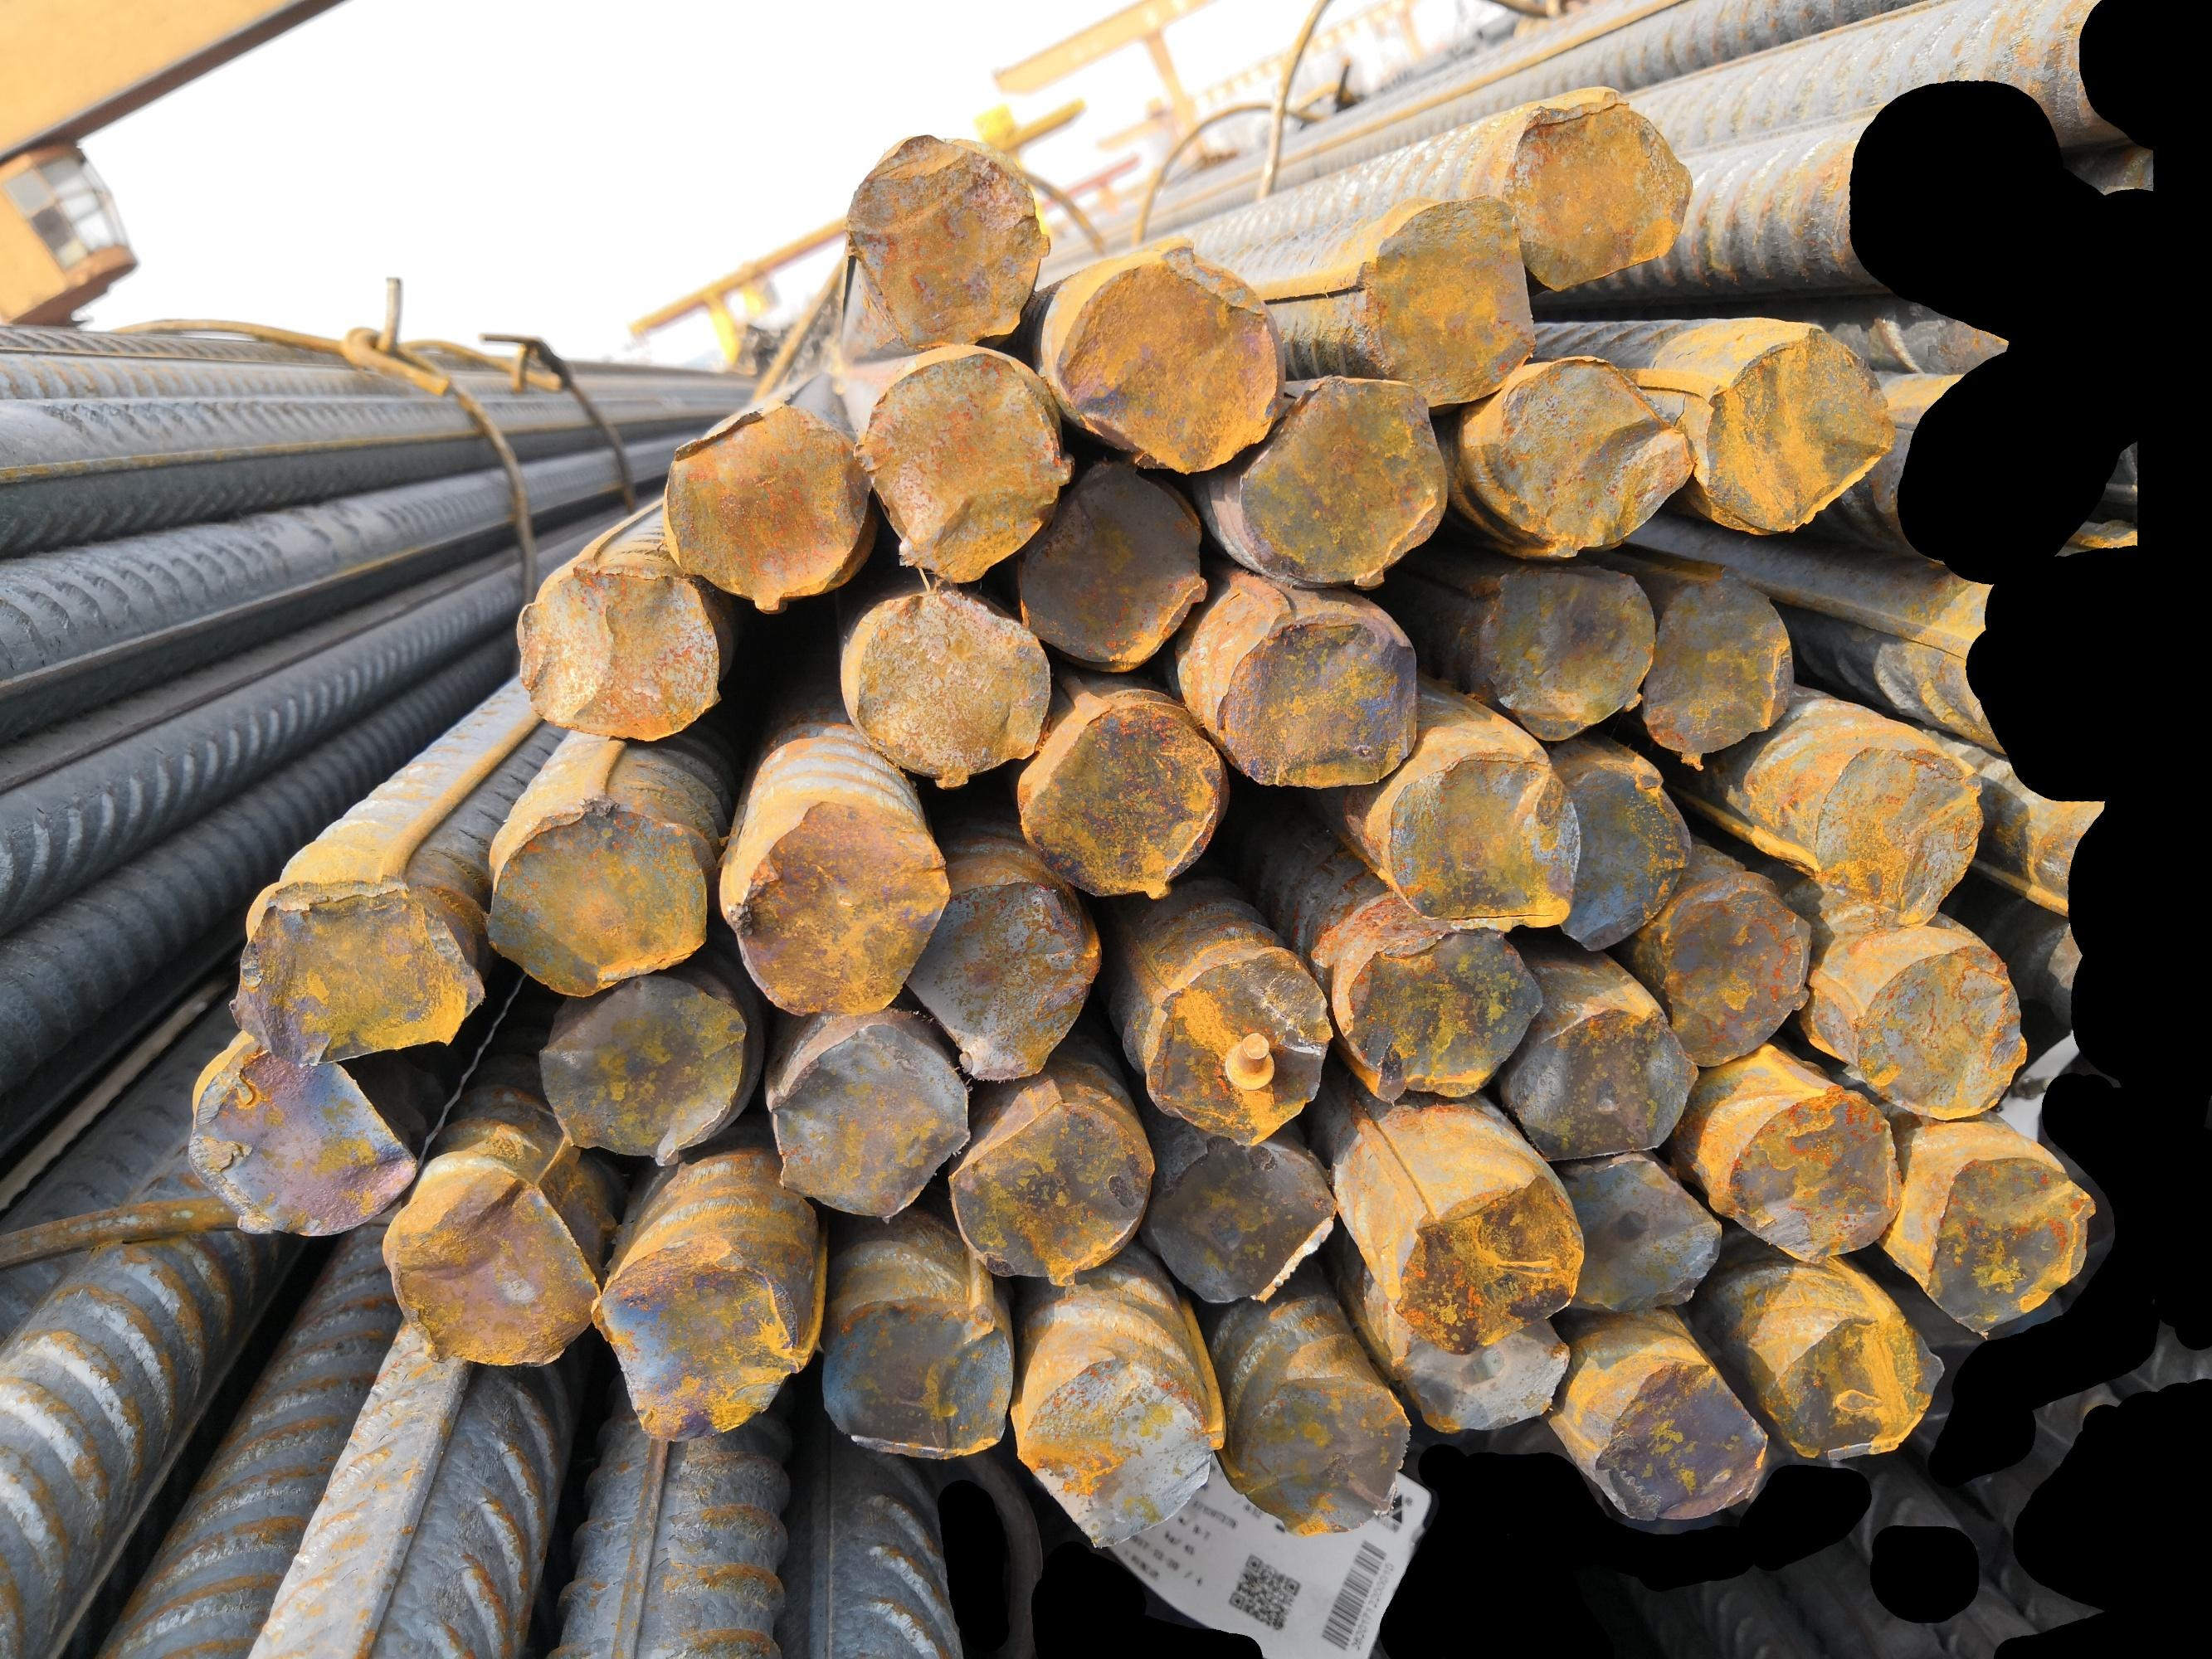bar: (1049, 237, 1285, 472), (716, 789, 952, 1023), (859, 345, 1077, 584), (225, 873, 485, 1063), (1229, 371, 1452, 589), (659, 397, 873, 617), (485, 793, 713, 999), (180, 1047, 422, 1241), (383, 1157, 603, 1368), (844, 132, 1055, 345), (837, 582, 1053, 788), (903, 868, 1107, 1086), (1487, 350, 1700, 558), (1011, 1345, 1227, 1549), (1700, 324, 1902, 538), (537, 969, 753, 1168), (767, 1016, 971, 1225), (1018, 701, 1229, 903), (1377, 1155, 1591, 1354), (586, 1256, 814, 1443), (511, 551, 729, 746), (945, 1089, 1159, 1284), (1503, 82, 1696, 293), (1351, 190, 1534, 408), (1211, 598, 1421, 788), (1018, 465, 1208, 674), (1140, 943, 1332, 1143), (1382, 741, 1581, 932), (1333, 929, 1548, 1105), (1717, 1073, 1907, 1267), (1572, 1351, 1773, 1525), (816, 1290, 1014, 1464), (1914, 1147, 2095, 1337), (1222, 1366, 1414, 1542), (1147, 1129, 1339, 1305), (1813, 742, 1989, 931), (1851, 939, 2029, 1124), (1475, 565, 1658, 742), (1642, 561, 1795, 767), (1752, 1300, 1945, 1462), (1506, 1004, 1701, 1161), (1661, 884, 1816, 1068), (1558, 1147, 1722, 1319), (1382, 1297, 1574, 1436), (1558, 756, 1691, 951)
